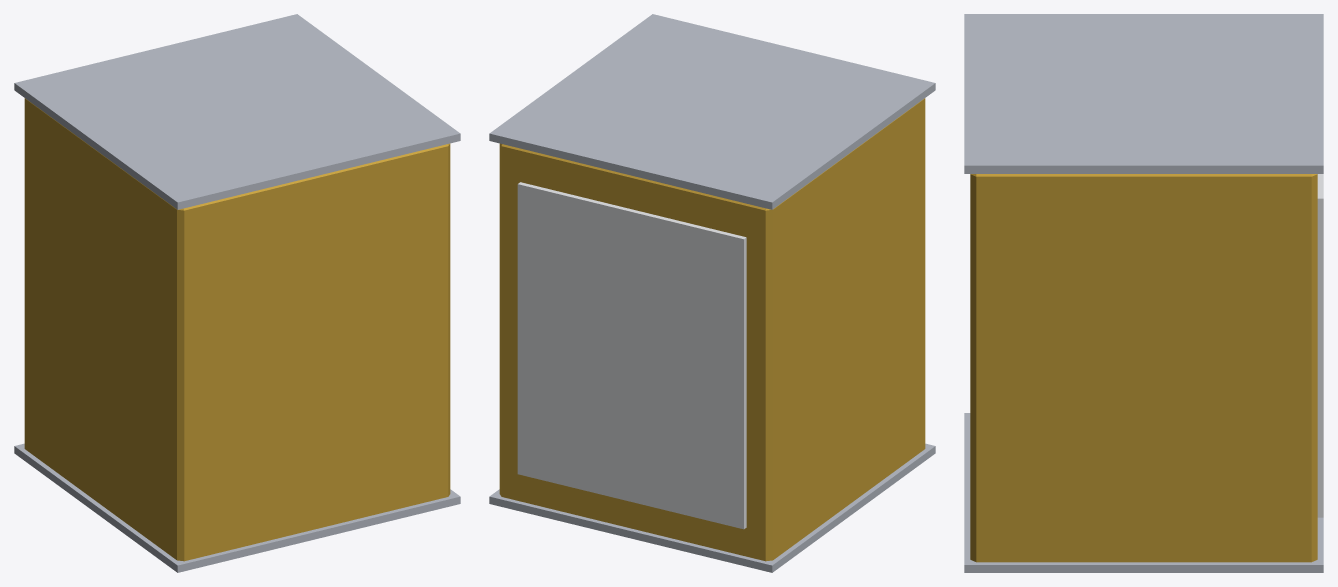
Rendered from espa.glb.
The picture shows the model from 3 angles, left to right: view 1: azimuth 30°, elevation 25°; view 2: azimuth 150°, elevation 25°; view 3: azimuth 270°, elevation 25°; orthographic projection. The views are drawn at different scales.
Visible parts, largest first — view 1: espa_body, espa_frame_top, espa_frame_bot; view 2: espa_body, espa_radiador, espa_frame_top, espa_frame_bot; view 3: espa_body, espa_frame_top, espa_frame_bot, espa_radiador.
Boxes of the visible parts, x1,y1,x2,y2 form: espa_body: (24, 98, 450, 561); espa_frame_top: (14, 14, 460, 209); espa_frame_bot: (14, 443, 460, 572); espa_body: (499, 98, 925, 561); espa_radiador: (517, 182, 746, 529); espa_frame_top: (489, 14, 935, 209); espa_frame_bot: (489, 443, 935, 572); espa_body: (970, 174, 1317, 562); espa_frame_top: (964, 14, 1323, 173); espa_frame_bot: (964, 413, 1323, 572); espa_radiador: (1317, 174, 1323, 517).
Size of the model in its own units: 0.6 by 0.8 by 0.6.
